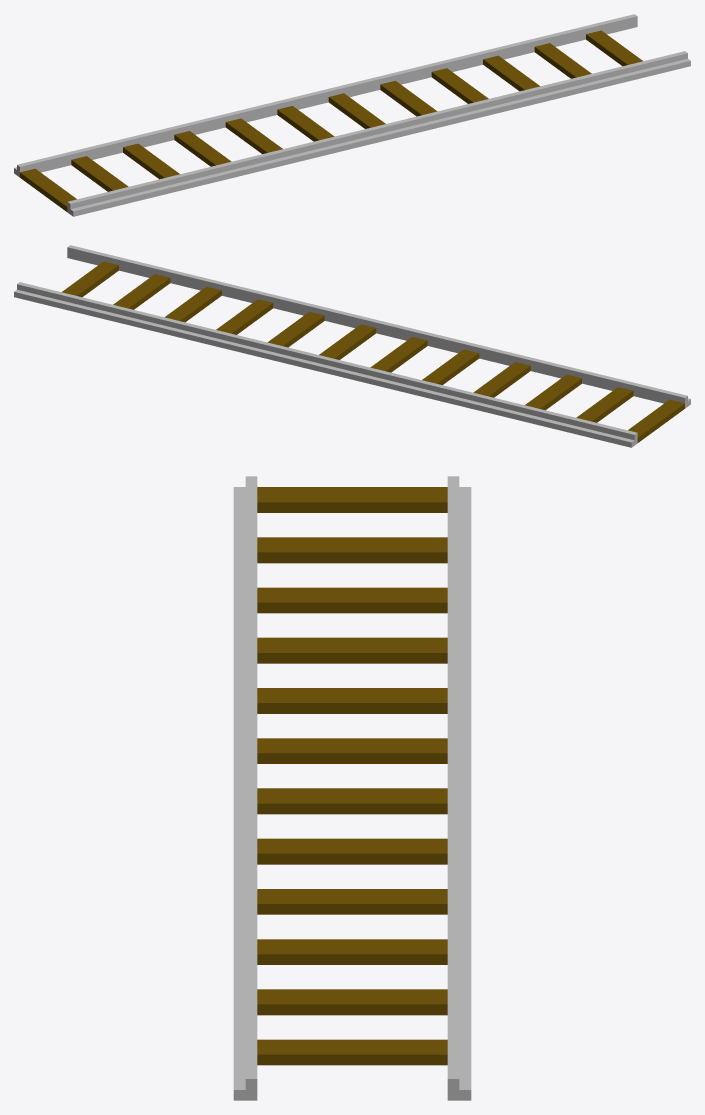
Rendered from TrainTrack.obj.
3 views of the same model, one above another, from view 1: azimuth 30°, elevation 25°; view 2: azimuth 150°, elevation 25°; view 3: azimuth 270°, elevation 25° (orthographic). The views are drawn at different scales.
Size of the model in its own units: 120 by 2 by 20.
Materials: 1 (1 with a texture image).
